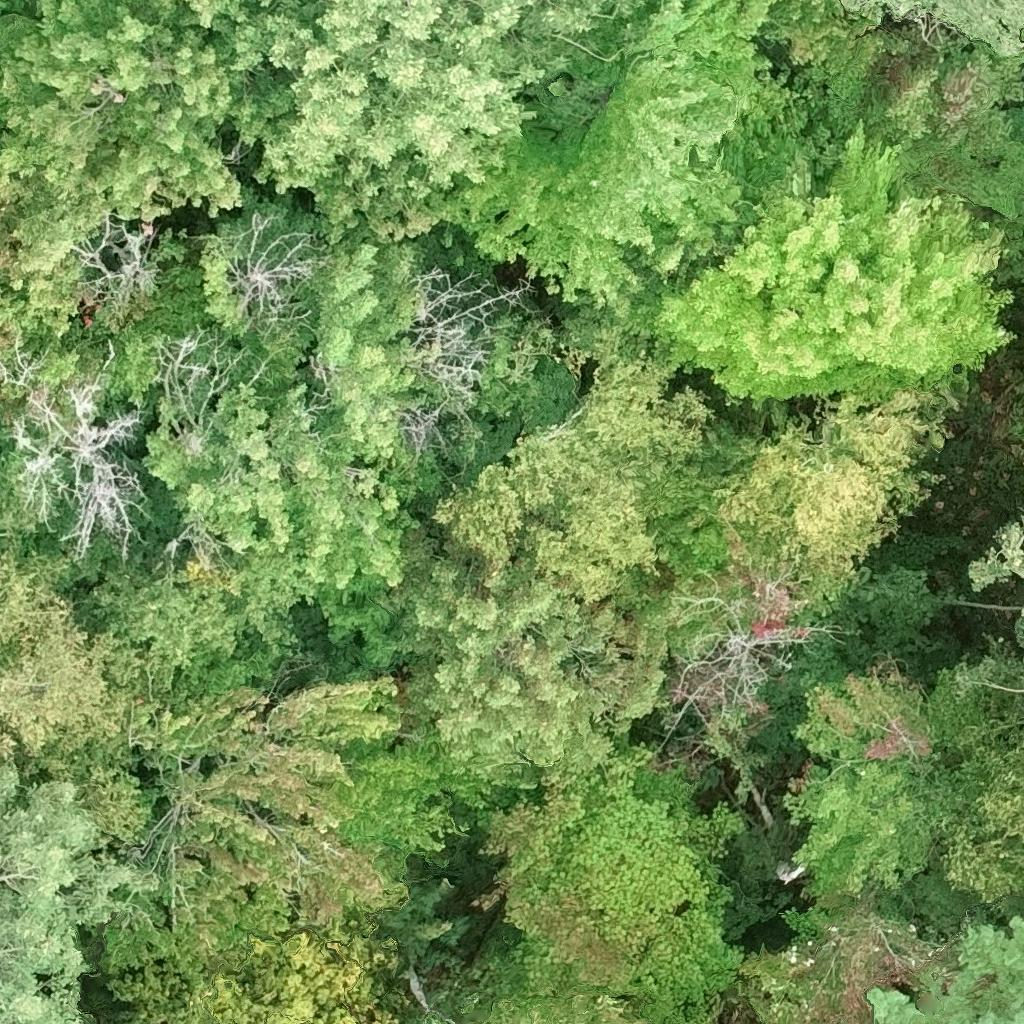crown: (93, 186, 584, 706), (426, 0, 827, 315), (100, 677, 496, 982), (189, 0, 641, 238), (650, 120, 1016, 407), (451, 727, 744, 1023), (432, 356, 757, 619), (386, 538, 681, 786), (629, 480, 854, 801), (0, 0, 299, 221), (781, 644, 1023, 901), (0, 546, 156, 861), (796, 11, 1023, 223), (710, 381, 950, 574), (0, 762, 156, 1023), (108, 909, 398, 1023), (0, 141, 115, 399), (58, 228, 216, 403), (791, 887, 972, 1023), (872, 916, 1023, 1023), (730, 897, 855, 1023), (940, 739, 1023, 906), (561, 276, 699, 370), (839, 0, 1023, 55), (759, 0, 884, 75), (406, 986, 633, 1023), (970, 514, 1023, 589), (0, 0, 18, 17), (16, 0, 33, 13), (1018, 616, 1023, 653), (631, 1016, 643, 1023)
